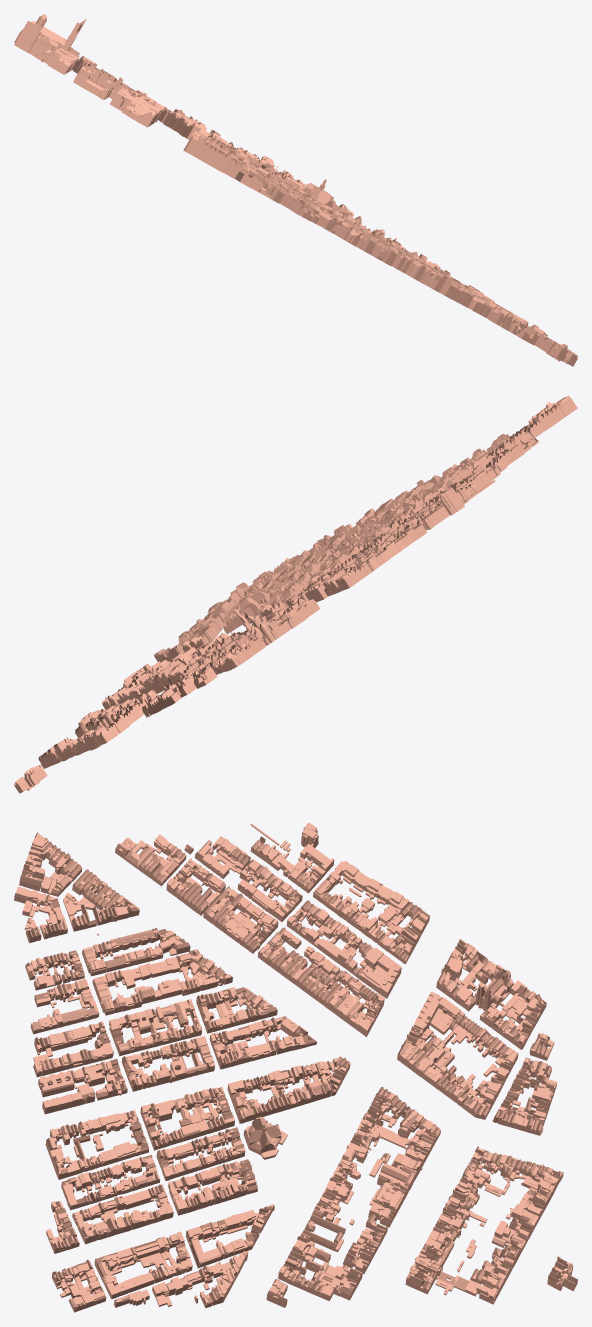
3 renders of one model, top to bottom at view 1: azimuth 30°, elevation 25°; view 2: azimuth 150°, elevation 25°; view 3: azimuth 270°, elevation 25°, orthographic. The views are drawn at different scales.
Size of the model in its own units: 1.72e+07 by 1.33e+07 by 2.15e+07.
